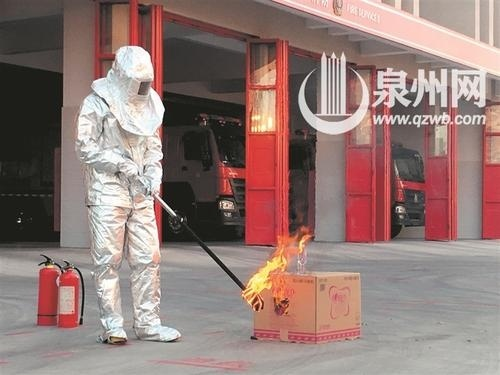fire: (241, 226, 313, 304)
